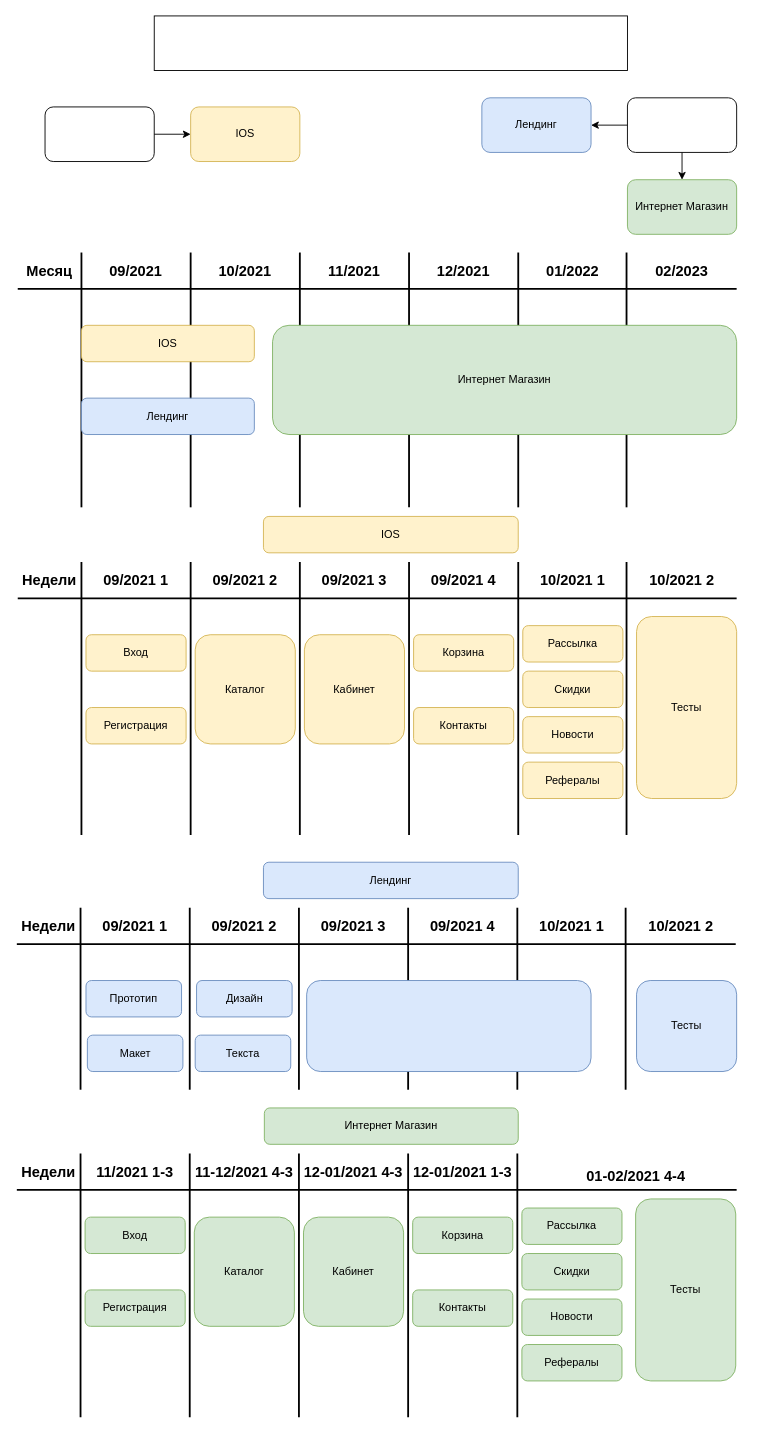
Some shapes in this 770 by 1435 pixel diagram are drawn without their labels. Each missing label, with the centre of its shape:
"Веб" goes at (682,124).
"Кофейня" goes at (390,43).
"Мобильное приложение" goes at (99,134).
"Разработка" goes at (448,1026).
